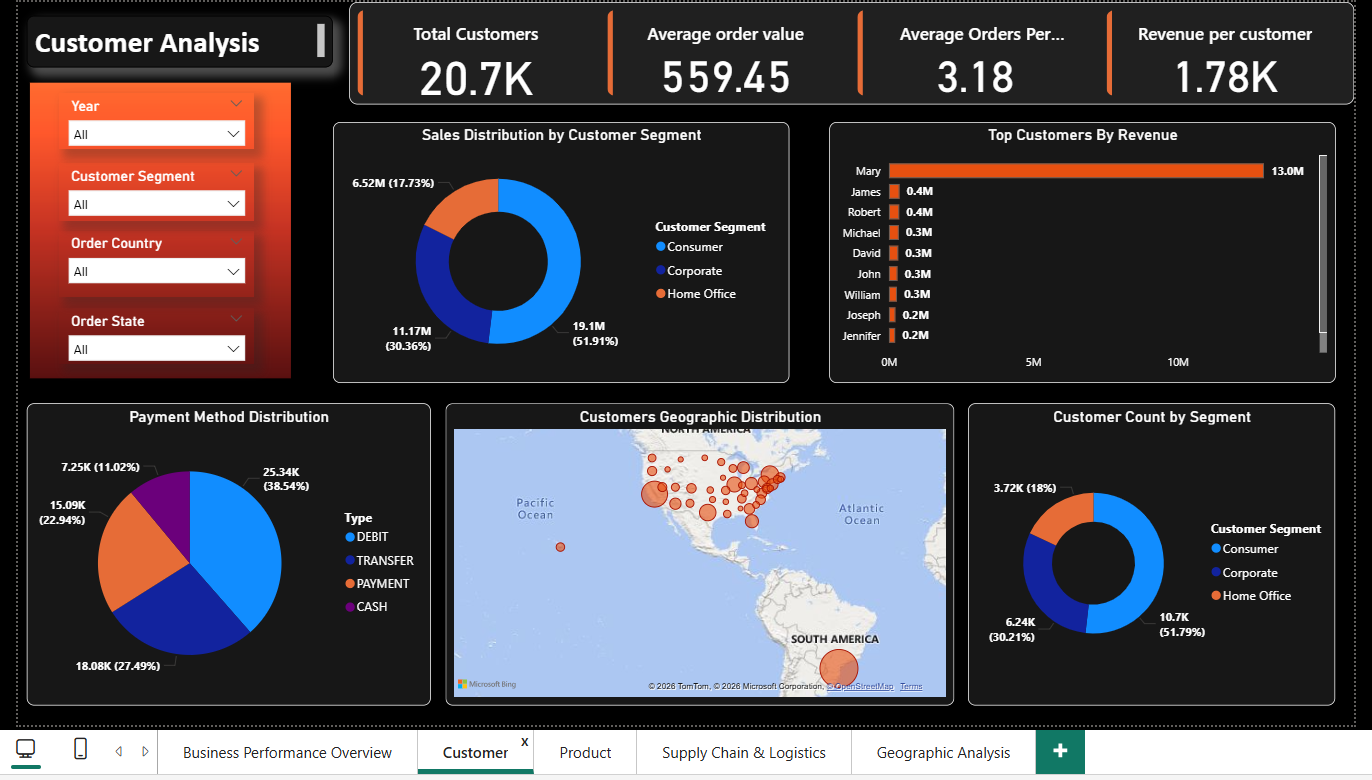

Layout of this report page (visuals, bound fields, positions):
{"tool":"powerbi","page":{"name":"Customer","canvas":[1450,785],"ordinal":1},"visuals":[{"type":"image","box":[8.1,82.7,293,330.9],"z":0},{"type":"cardVisual","fields":{"Data":["CountNonNull(DimCustomer.Customer Id)","fact_orders.Average order value","fact_orders.Average Orders Per Customer","fact_orders.Sales per customer value"]},"box":[359.4,0,1090.4,111.2],"z":1000},{"type":"donutChart","title":"Sales Distribution by Customer Segment","fields":{"Category":["DimCustomer.Customer Segment"],"Y":["Sum(fact_orders.Sales)"]},"box":[341.8,130.2,495,283.5],"z":2000},{"type":"clusteredBarChart","title":"Top Customers By Revenue","fields":{"Category":["DimCustomer.Customer Fname"],"Y":["Sum(fact_orders.Sales)"]},"box":[880.2,130.2,549.3,283.5],"z":3000},{"type":"map","title":"Customers Geographic Distribution","fields":{"Category":["DimCustomer.Customer State"],"Size":["CountNonNull(DimCustomer.Customer Id)"]},"box":[463.8,435.4,552,328.2],"z":4000},{"type":"donutChart","title":" Customer Count by Segment","fields":{"Category":["DimCustomer.Customer Segment"],"Y":["CountNonNull(DimCustomer.Customer Id)"]},"box":[1030.8,435.4,398.7,328.2],"z":5000},{"type":"pieChart","title":"Payment Method Distribution","fields":{"Category":["fact_orders.Type"],"Y":["Count(fact_orders.Order Id)"]},"box":[9.5,435.4,438.1,328.2],"z":6000},{"type":"textbox","box":[9.5,14.9,332.3,55.6],"z":7000},{"type":"slicer","fields":{"Values":["fact_orders.order date (DateOrders).Variation.Date Hierarchy.Year"]},"box":[44.8,99,211.6,61],"z":8000},{"type":"slicer","fields":{"Values":["DimCustomer.Customer Segment"]},"box":[44.8,175,211.6,62.4],"z":9000},{"type":"slicer","fields":{"Values":["fact_orders.Order Country"]},"box":[44.8,248.2,211.6,71.9],"z":10000},{"type":"slicer","fields":{"Values":["fact_orders.Order State"]},"box":[44.8,332.3,211.6,59.7],"z":11000}]}

Visuals, with their boxes on the page's 1450x785 design canvas (x1, y1, x2, y2). These are canvas units, not pixel positions in the 1372x780 screenshot, which may show the page scaled, cropped or inside an application window:
image: (8,83,301,414)
cardVisual - CountNonNull(DimCustomer.Customer Id) x fact_orders.Average order value: (359,0,1450,111)
"Sales Distribution by Customer Segment" donutChart: (342,130,837,414)
"Top Customers By Revenue" clusteredBarChart: (880,130,1430,414)
"Customers Geographic Distribution" map: (464,435,1016,764)
" Customer Count by Segment" donutChart: (1031,435,1430,764)
"Payment Method Distribution" pieChart: (10,435,448,764)
textbox: (10,15,342,70)
slicer - fact_orders.order date (DateOrders).Variation.Date Hierarchy.Year: (45,99,256,160)
slicer - DimCustomer.Customer Segment: (45,175,256,237)
slicer - fact_orders.Order Country: (45,248,256,320)
slicer - fact_orders.Order State: (45,332,256,392)
